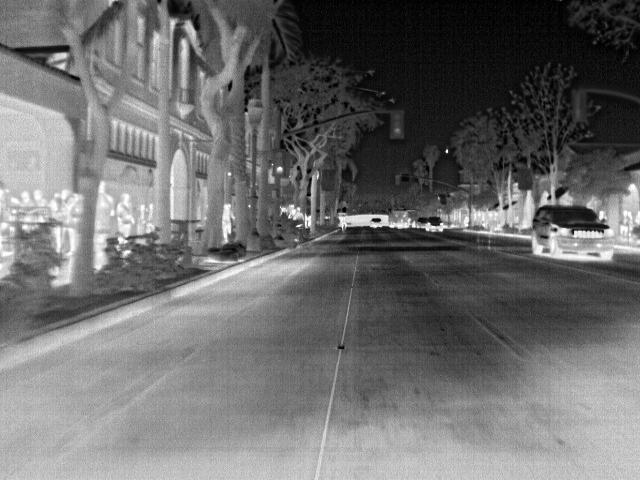car: (529, 204, 616, 262), (422, 214, 448, 232), (366, 216, 384, 230)
person: (95, 179, 119, 232), (118, 192, 138, 238), (219, 202, 235, 244), (30, 188, 49, 206), (619, 209, 631, 237), (595, 208, 609, 226), (18, 192, 35, 206)
